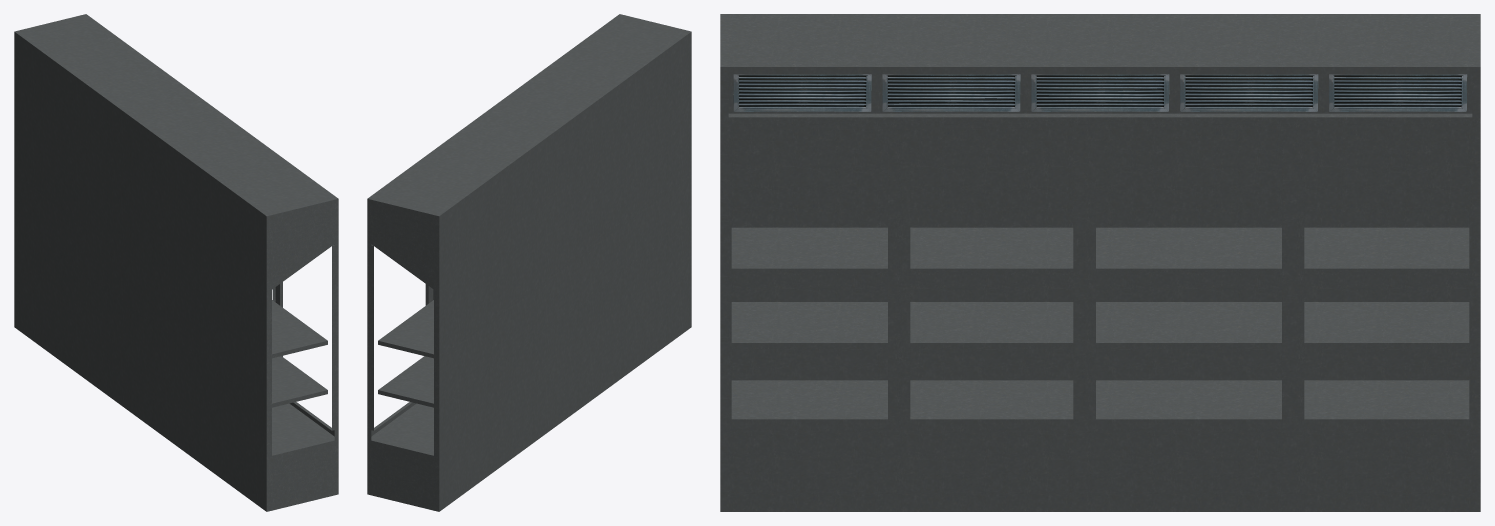
File: SM_Market_Fridge.fbx
The picture shows the model from 3 angles, left to right: view 1: azimuth 30°, elevation 25°; view 2: azimuth 150°, elevation 25°; view 3: azimuth 270°, elevation 25°; orthographic projection. The views are drawn at different scales.
Parts seen in each view (by area): view 1: SM_Market_Fridge; view 2: SM_Market_Fridge; view 3: SM_Market_Fridge.
Part boxes in pixels (x1,y1,x2,y2): SM_Market_Fridge: (14,14,338,511); SM_Market_Fridge: (367,14,691,511); SM_Market_Fridge: (720,14,1480,511).
Size of the model in its own units: 93.11 by 366 by 566.
3 materials, 2 textured.
